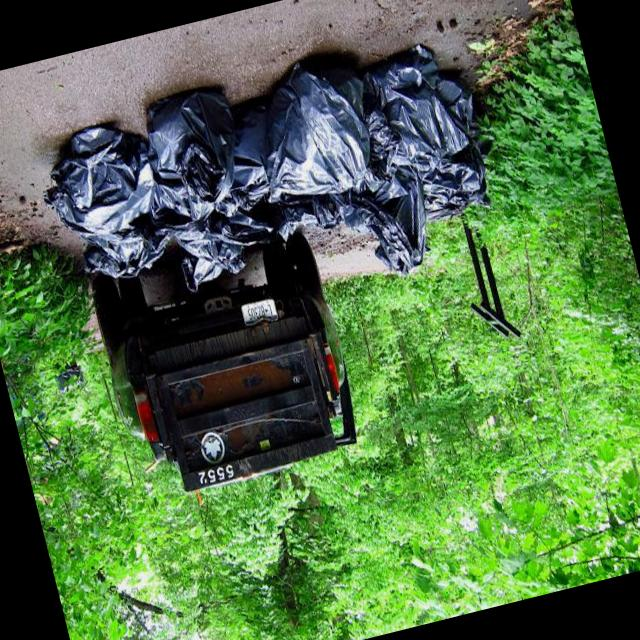high trash: (45, 46, 484, 290)
